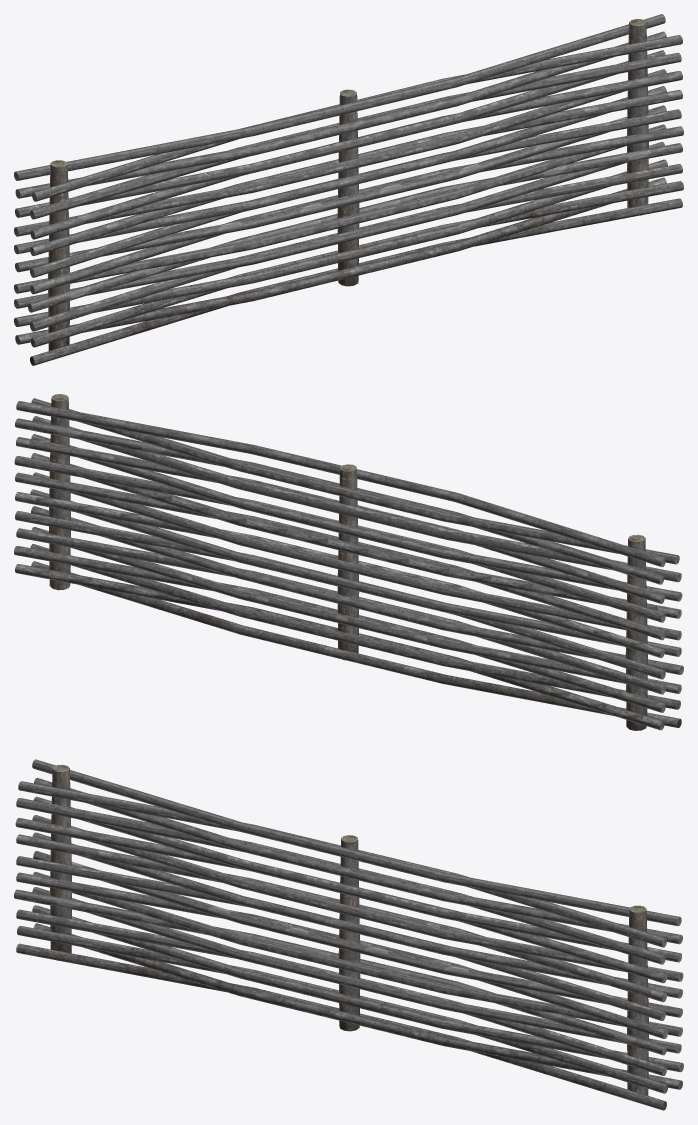
The model's file is FarmFence_mdl.fbx.
The picture shows the model from 3 angles, top to bottom: view 1: azimuth 30°, elevation 25°; view 2: azimuth 150°, elevation 25°; view 3: azimuth 330°, elevation 25°; orthographic projection.
Parts seen in each view (by area): view 1: FarmFence_LOD0; view 2: FarmFence_LOD0; view 3: FarmFence_LOD0.
Part boxes in pixels (x1,y1,x2,y2): FarmFence_LOD0: (14, 14, 683, 365); FarmFence_LOD0: (14, 394, 683, 730); FarmFence_LOD0: (14, 759, 683, 1110).
Size of the model in its own units: 359 by 99.81 by 20.21.
1 material, 1 textured.
